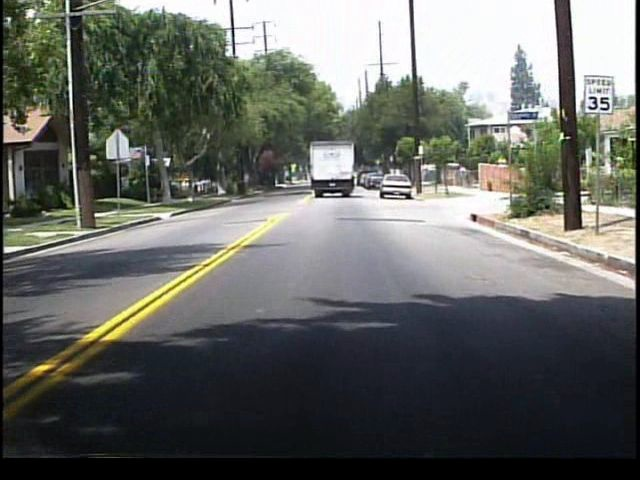person: (457, 164, 468, 190)
